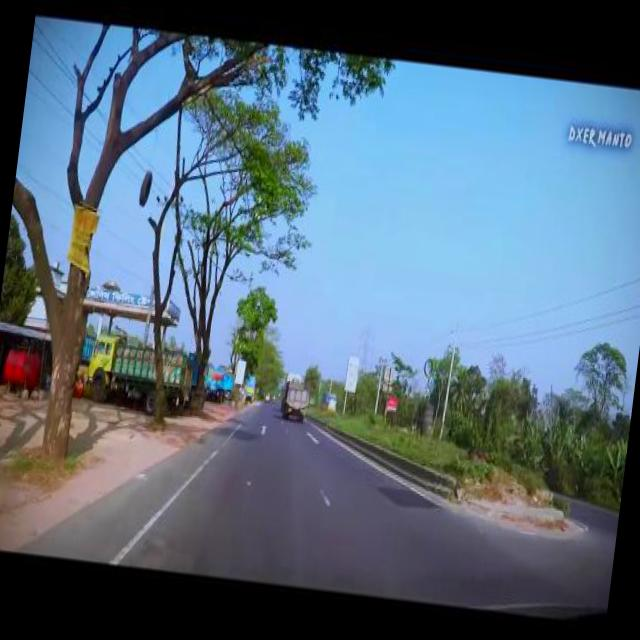truck: (81, 322, 196, 418), (276, 368, 312, 422), (317, 386, 338, 412)
